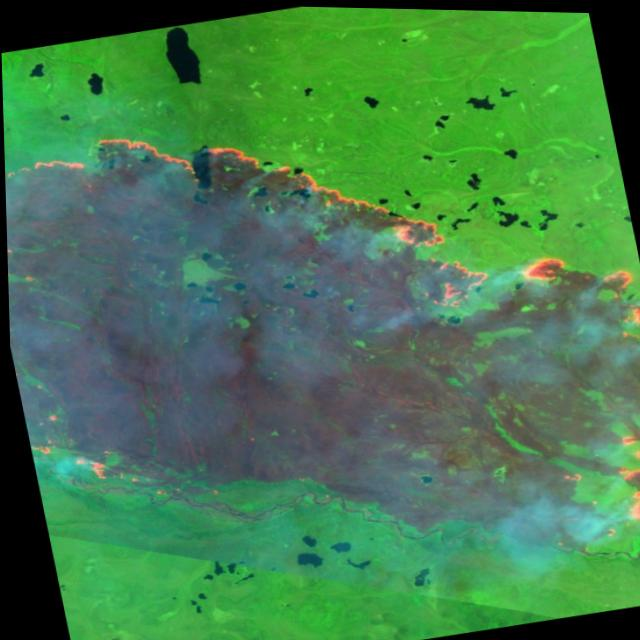fire: (1, 45, 640, 640)
